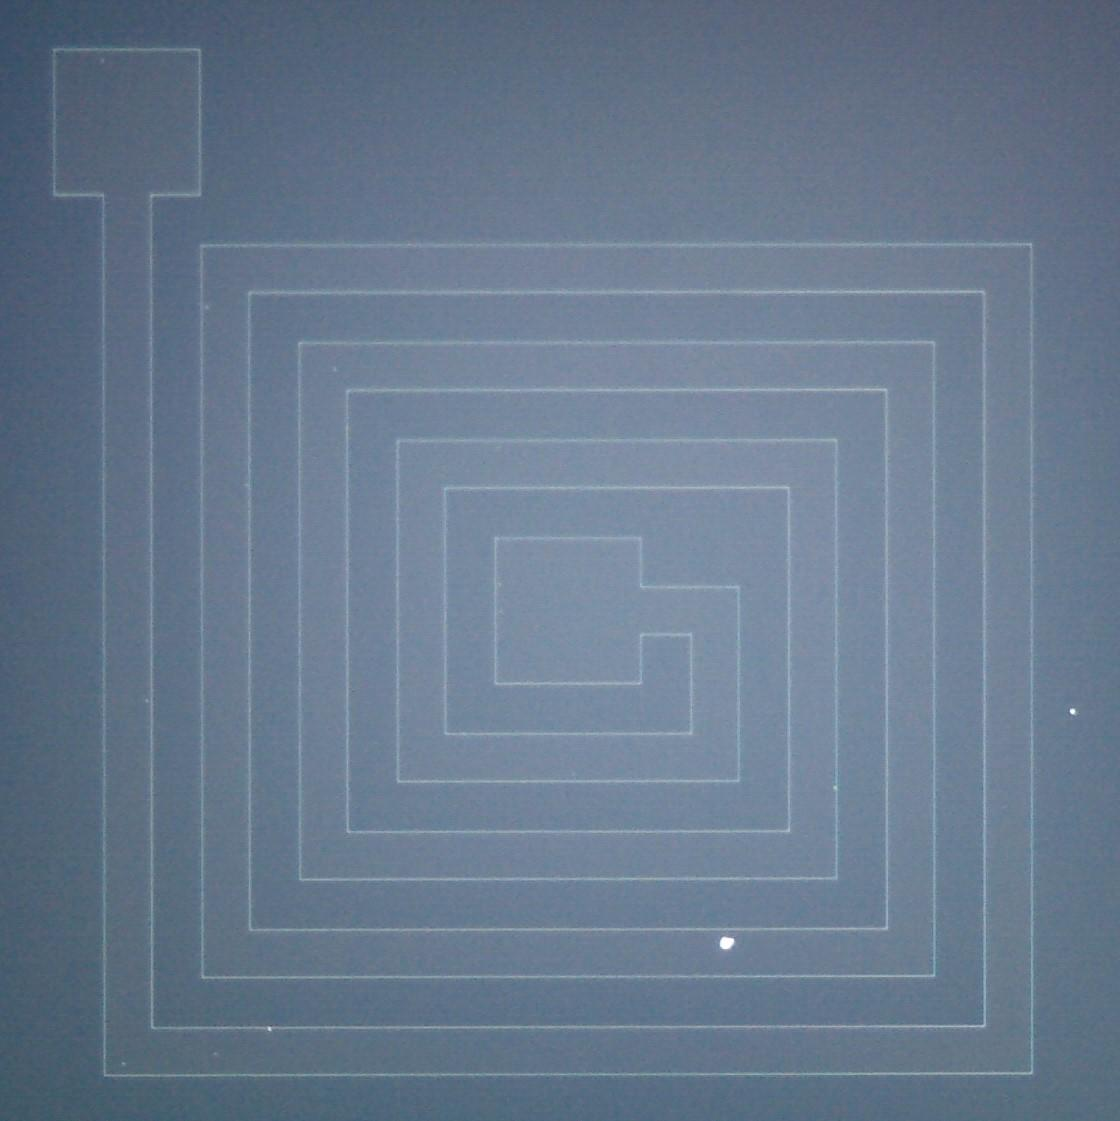B_point: (717, 934, 737, 952)
s_point: (91, 51, 114, 75), (197, 297, 216, 317), (326, 361, 346, 379), (1067, 705, 1079, 718), (264, 1023, 275, 1034), (210, 1048, 221, 1059), (830, 783, 840, 793), (118, 1058, 128, 1069), (145, 696, 150, 704)
